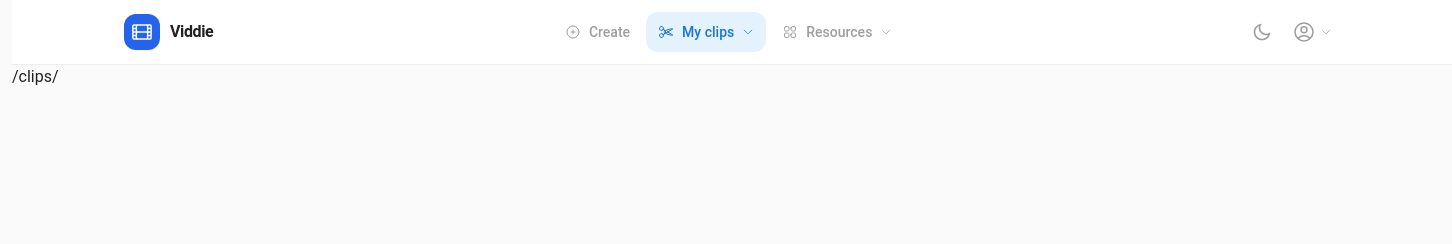
navigates between project types through the desktop dropdown
Click the button "My clips" at (706, 32), box left=646, top=12, right=766, bottom=52
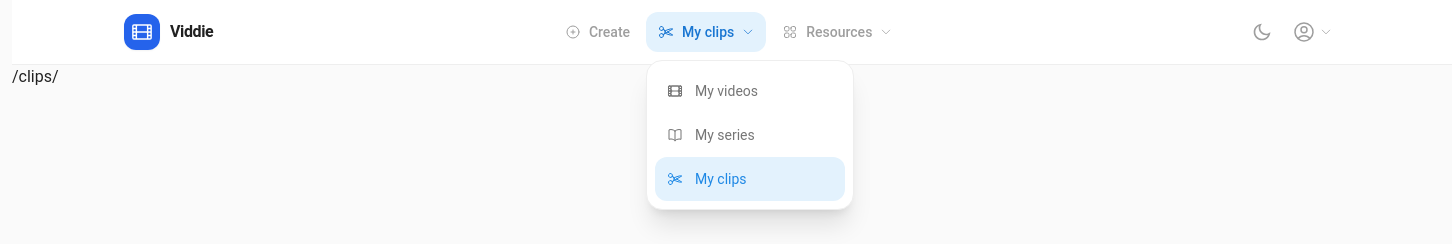
Click the menu item "My series" at (711, 135), box left=667, top=127, right=755, bottom=143
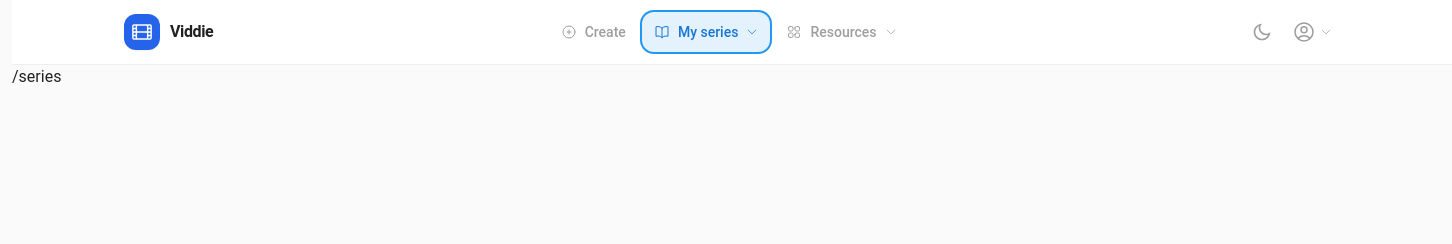
expect the text with test id "route" reads "/series": met, box left=12, top=67, right=61, bottom=86
expect the button "My series" is shown: met, box left=642, top=12, right=770, bottom=52
expect the menu is gone: met
